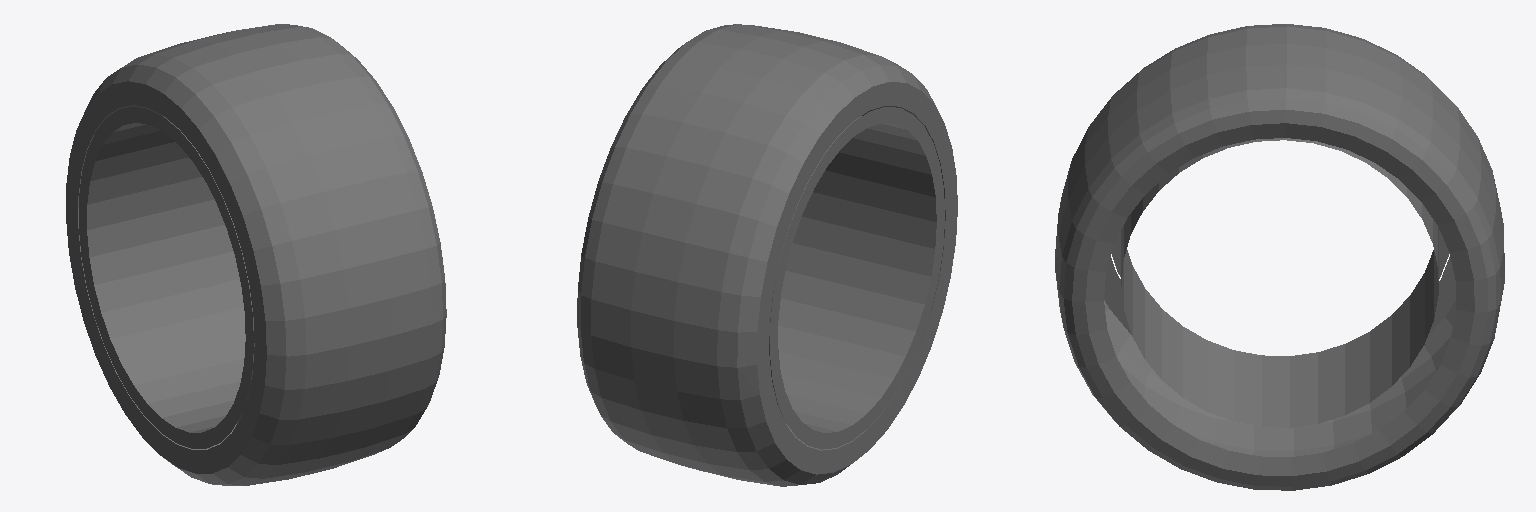
File: Llanta1_Carro.obj
3 views of the same model, side by side, from view 1: azimuth 30°, elevation 25°; view 2: azimuth 150°, elevation 25°; view 3: azimuth 270°, elevation 25° (orthographic).
Visible parts, largest first — view 1: Llanta1_Carro; view 2: Llanta1_Carro; view 3: Llanta1_Carro.
Part boxes in pixels (bbox=[...]): Llanta1_Carro: bbox=[66, 24, 446, 485]; Llanta1_Carro: bbox=[577, 24, 957, 486]; Llanta1_Carro: bbox=[1055, 24, 1504, 490].
Bounding box in the file's own units: 9.67 × 21.02 × 21.01.